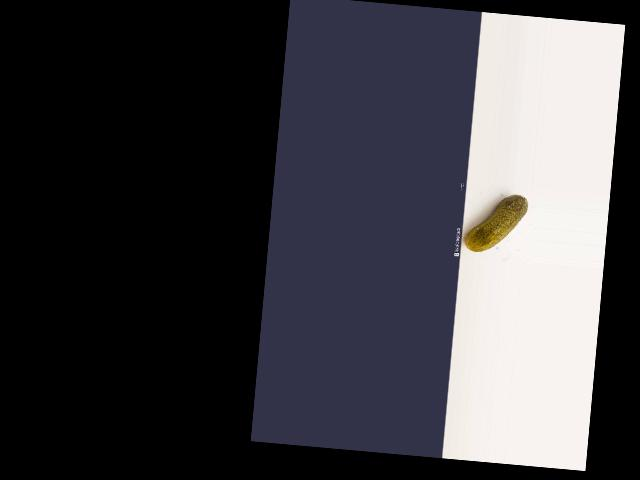cucumber: (463, 190, 528, 256)
